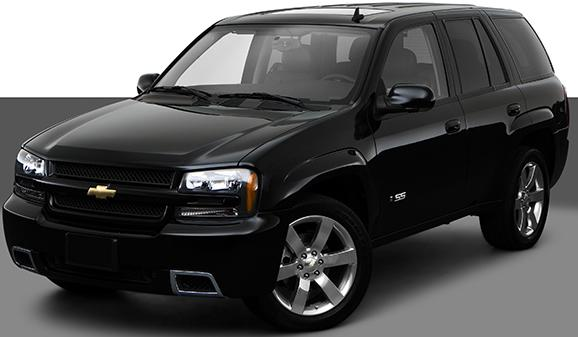front_view: (9, 144, 270, 304)
headlight: (166, 162, 266, 232)
side_glass: (364, 28, 531, 102)
